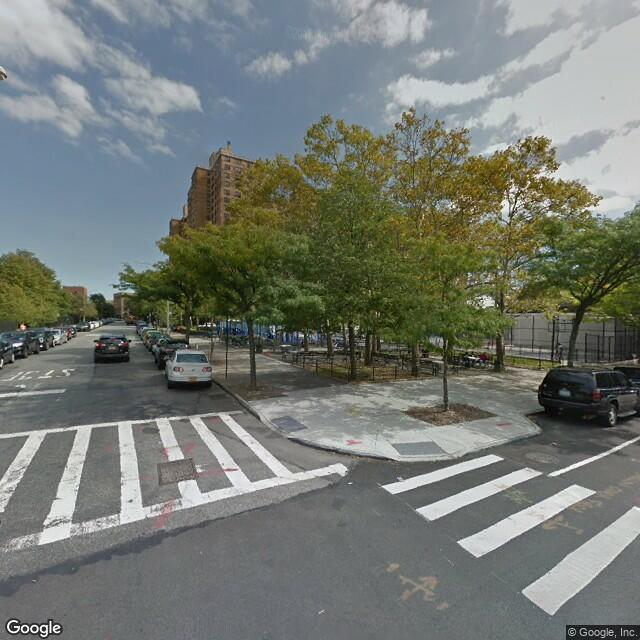litter: (396, 477, 404, 483)
